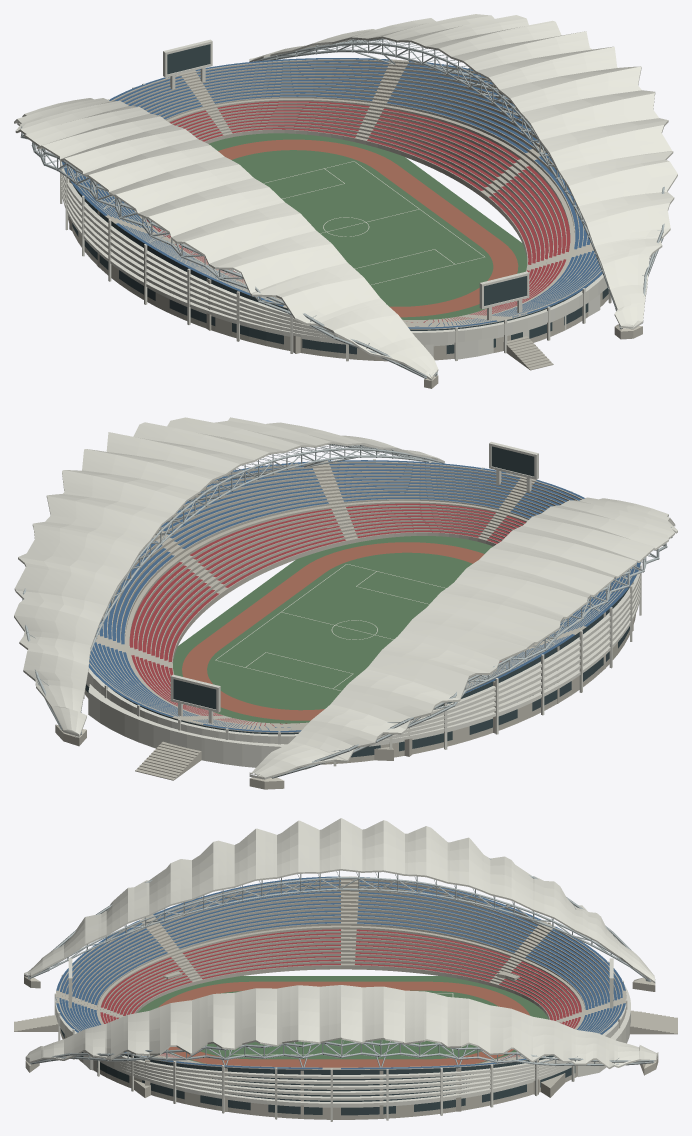
Rendered from estadio-nacional-costa-rica-near.glb.
3 views of the same model, one above another, from view 1: azimuth 30°, elevation 25°; view 2: azimuth 150°, elevation 25°; view 3: azimuth 270°, elevation 25° (orthographic). The views are drawn at different scales.
Visible parts, largest first — view 1: estadio-nacional-costa-rica-0-white, estadio-nacional-costa-rica-0-concrete, estadio-nacional-costa-rica-0-grass, estadio-nacional-costa-rica-0-blue, estadio-nacional-costa-rica-0-red, estadio-nacional-costa-rica-0-steel, estadio-nacional-costa-rica-0-track, estadio-nacional-costa-rica-0-glass; view 2: estadio-nacional-costa-rica-0-white, estadio-nacional-costa-rica-0-concrete, estadio-nacional-costa-rica-0-grass, estadio-nacional-costa-rica-0-blue, estadio-nacional-costa-rica-0-red, estadio-nacional-costa-rica-0-steel, estadio-nacional-costa-rica-0-track, estadio-nacional-costa-rica-0-glass; view 3: estadio-nacional-costa-rica-0-white, estadio-nacional-costa-rica-0-concrete, estadio-nacional-costa-rica-0-blue, estadio-nacional-costa-rica-0-red, estadio-nacional-costa-rica-0-steel, estadio-nacional-costa-rica-0-glass, estadio-nacional-costa-rica-0-grass, estadio-nacional-costa-rica-0-track.
Boxes of the visible parts, bbox=[...] form: estadio-nacional-costa-rica-0-white: bbox=[14, 14, 677, 380]; estadio-nacional-costa-rica-0-concrete: bbox=[66, 59, 642, 388]; estadio-nacional-costa-rica-0-grass: bbox=[209, 133, 527, 319]; estadio-nacional-costa-rica-0-blue: bbox=[62, 58, 602, 328]; estadio-nacional-costa-rica-0-red: bbox=[146, 101, 570, 322]; estadio-nacional-costa-rica-0-steel: bbox=[20, 38, 664, 378]; estadio-nacional-costa-rica-0-track: bbox=[218, 139, 518, 317]; estadio-nacional-costa-rica-0-glass: bbox=[69, 44, 608, 354]; estadio-nacional-costa-rica-0-white: bbox=[14, 417, 677, 779]; estadio-nacional-costa-rica-0-concrete: bbox=[55, 460, 636, 789]; estadio-nacional-costa-rica-0-grass: bbox=[173, 536, 492, 723]; estadio-nacional-costa-rica-0-blue: bbox=[89, 460, 640, 732]; estadio-nacional-costa-rica-0-red: bbox=[129, 503, 525, 726]; estadio-nacional-costa-rica-0-steel: bbox=[22, 444, 672, 778]; estadio-nacional-costa-rica-0-track: bbox=[182, 542, 484, 720]; estadio-nacional-costa-rica-0-glass: bbox=[85, 446, 629, 757]; estadio-nacional-costa-rica-0-white: bbox=[24, 818, 658, 1121]; estadio-nacional-costa-rica-0-concrete: bbox=[14, 876, 677, 1119]; estadio-nacional-costa-rica-0-blue: bbox=[55, 876, 625, 1069]; estadio-nacional-costa-rica-0-red: bbox=[100, 929, 581, 1059]; estadio-nacional-costa-rica-0-steel: bbox=[28, 858, 654, 1067]; estadio-nacional-costa-rica-0-glass: bbox=[60, 1028, 603, 1115]; estadio-nacional-costa-rica-0-grass: bbox=[137, 976, 548, 1063]; estadio-nacional-costa-rica-0-track: bbox=[158, 981, 529, 1067].
Bounding box in the file's own units: 245 × 52.6 × 312.
